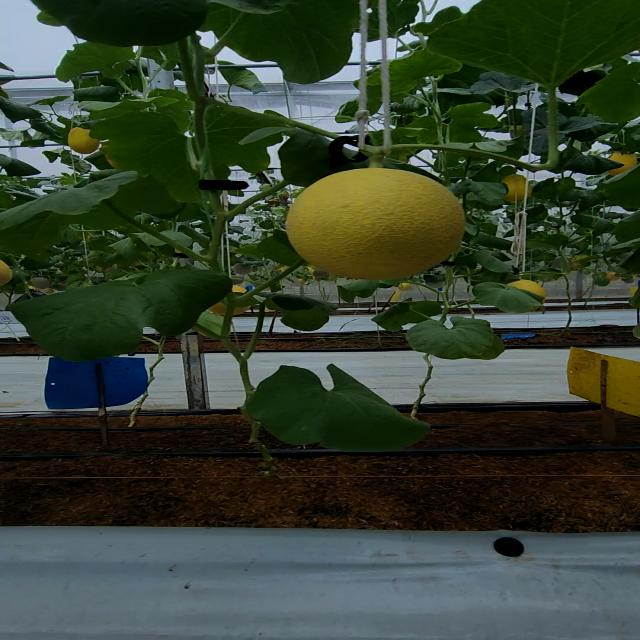Front-melon: (285, 169, 466, 279)
Rear-melon: (70, 130, 97, 152)
